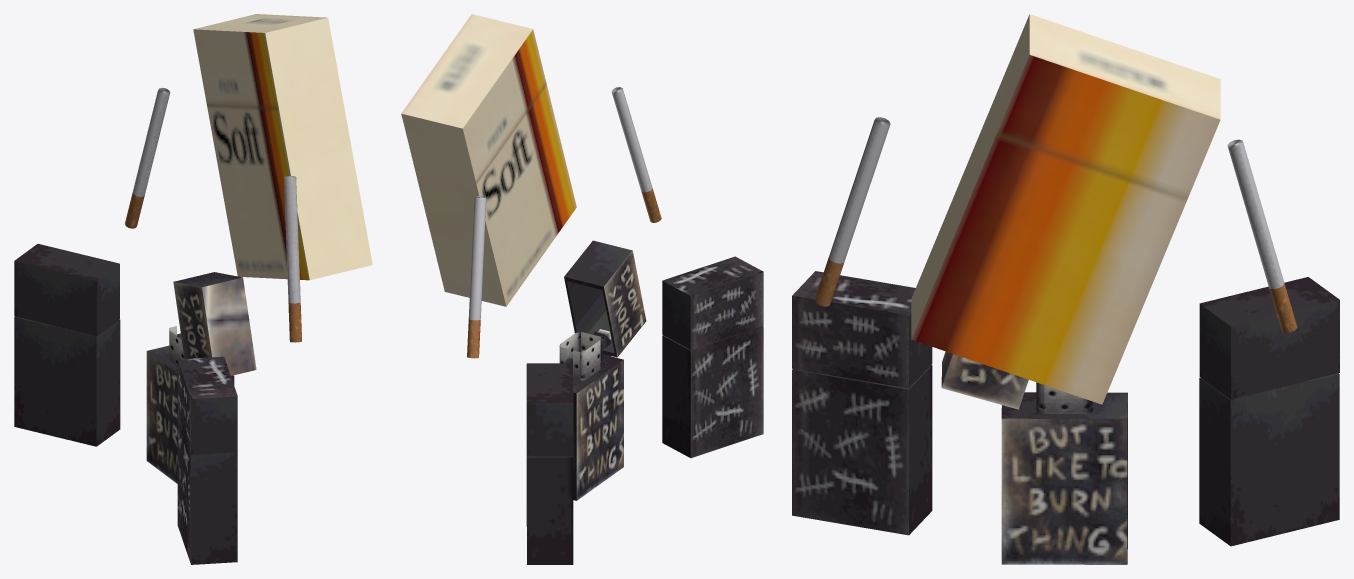
The model's file is Lighter + Cigarette + Pack.fbx.
3 renders of one model, left to right at view 1: azimuth 30°, elevation 25°; view 2: azimuth 150°, elevation 25°; view 3: azimuth 270°, elevation 25°, orthographic. The views are drawn at different scales.
Parts seen in each view (by area): view 1: Cigarette Box, Cube.002, Cube.003, Cube, Cube.005, Cube.001, Cube.004, Cigarette 2, Cigarette 1; view 2: Cigarette Box, Cube, Cube.004, Cube.001, Cube.005, Cube.002, Cube.003, Cigarette 1, Cigarette 2; view 3: Cigarette Box, Cube.004, Cube.002, Cube, Cube.003, Cube.001, Cigarette 2, Cigarette 1, Cube.005.
Boxes of the visible parts, box(x1,y1,x2,y2) form: Cigarette Box: box(193, 14, 372, 280); Cube.002: box(14, 316, 120, 446); Cube.003: box(14, 244, 119, 335); Cube: box(177, 415, 237, 564); Cube.005: box(173, 272, 256, 375); Cube.001: box(177, 356, 237, 454); Cube.004: box(146, 326, 234, 483); Cigarette 2: box(284, 176, 301, 342); Cigarette 1: box(125, 87, 170, 228); Cigarette Box: box(401, 14, 576, 306); Cube: box(662, 326, 763, 458); Cube.004: box(559, 331, 623, 500); Cube.001: box(662, 256, 763, 349); Cube.005: box(564, 240, 646, 357); Cube.002: box(526, 418, 573, 564); Cube.003: box(526, 363, 573, 456); Cigarette 1: box(467, 196, 486, 358); Cigarette 2: box(611, 87, 661, 222); Cigarette Box: box(911, 14, 1220, 404); Cube.004: box(1001, 382, 1127, 564); Cube.002: box(1199, 373, 1339, 546); Cube: box(792, 365, 932, 535); Cube.003: box(1199, 277, 1339, 399); Cube.001: box(792, 271, 932, 388); Cigarette 2: box(814, 117, 890, 306); Cigarette 1: box(1227, 139, 1297, 332); Cube.005: box(941, 351, 1028, 409).
Bounding box in the file's own units: 83.25 × 159 × 137.
3 materials, 3 textured.
